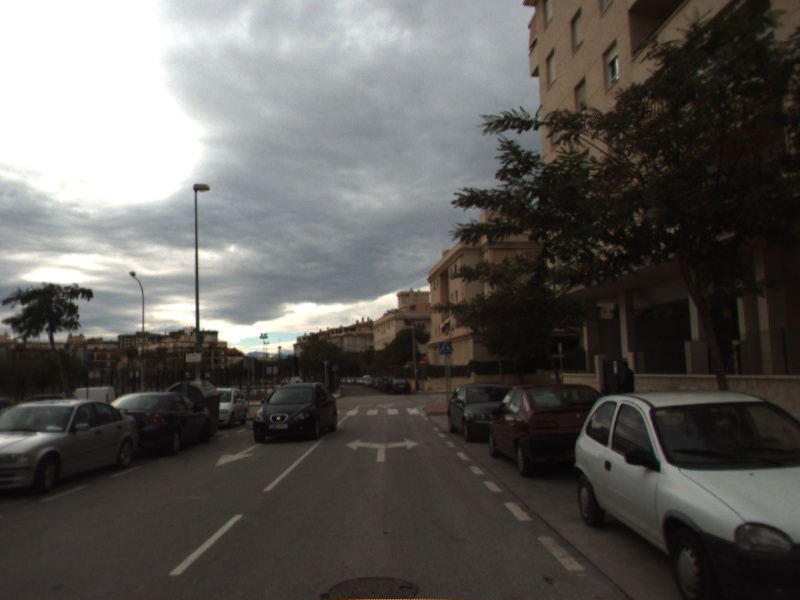LEFT_RIGHT: (344, 436, 421, 464)
